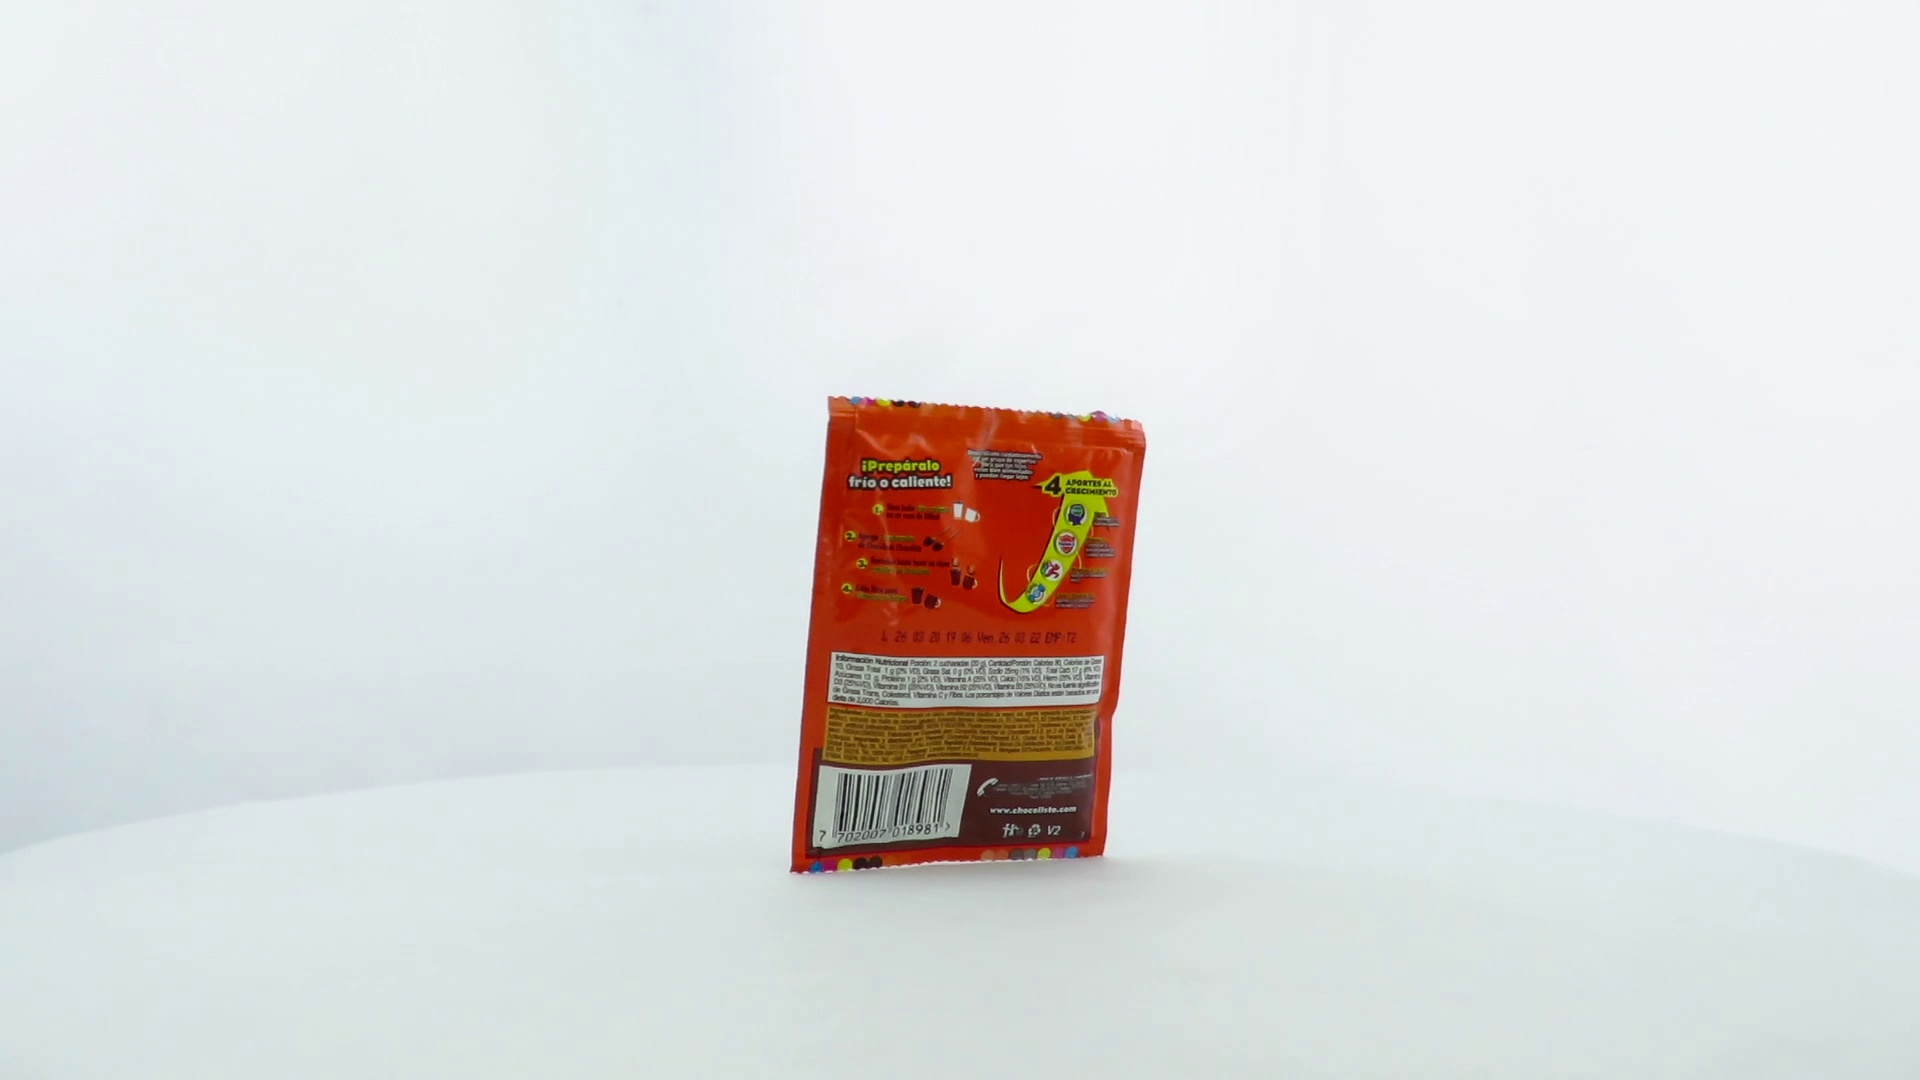COL0170103SOB02000: (785, 392, 1153, 880)
